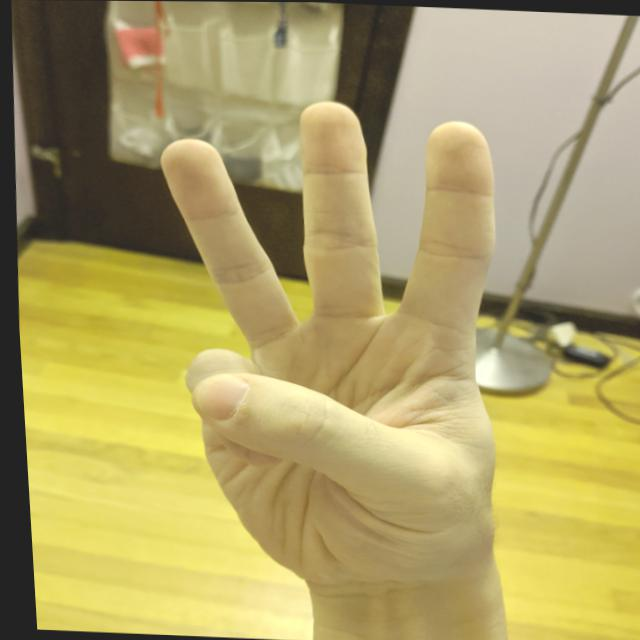W: (133, 86, 523, 592)
